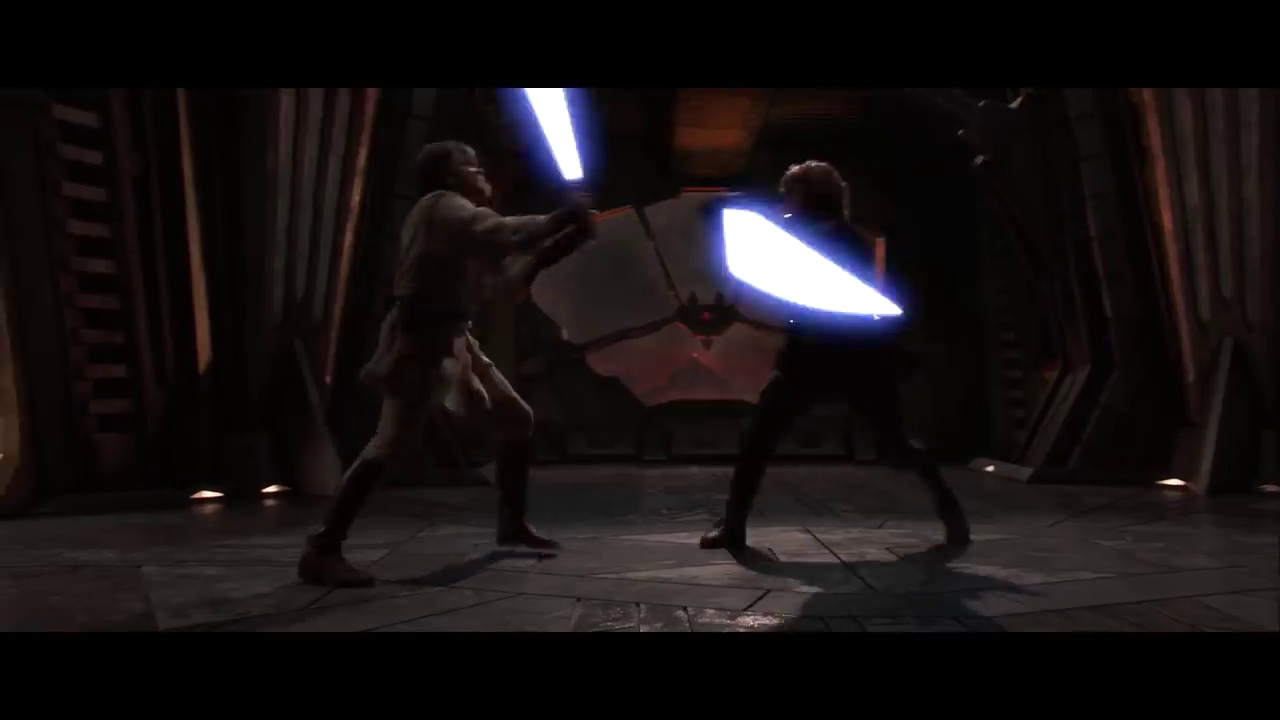lightsaber: (508, 91, 621, 200)
